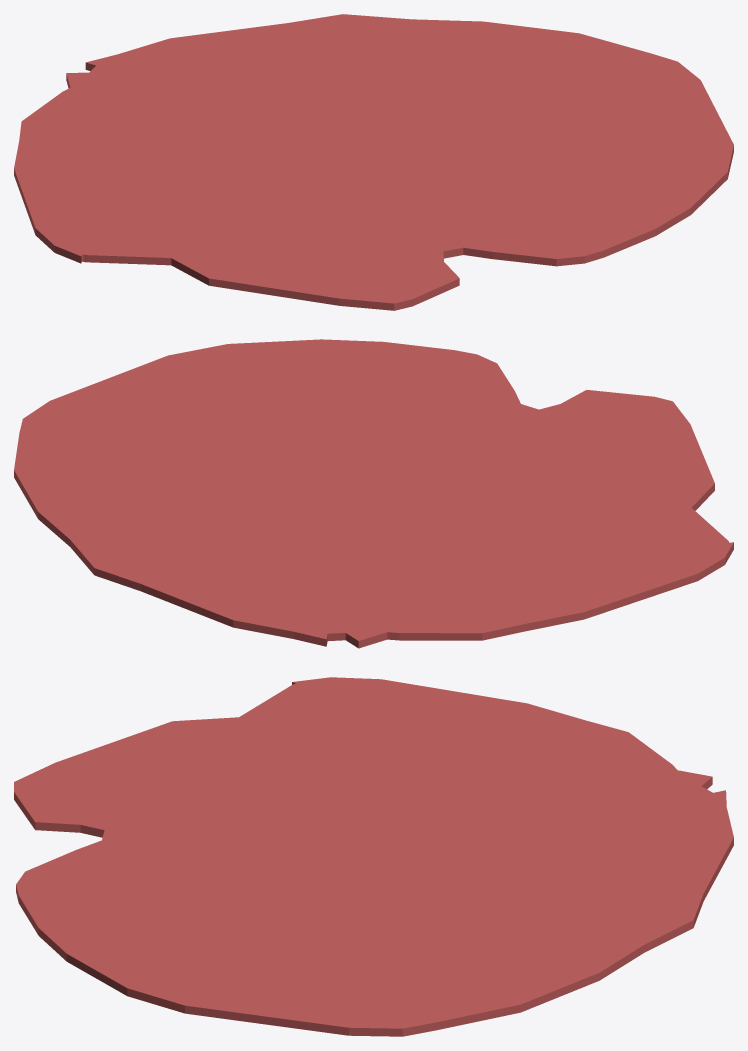
File: Coral_Disc_01.fbx
3 renders of one model, top to bottom at view 1: azimuth 30°, elevation 25°; view 2: azimuth 150°, elevation 25°; view 3: azimuth 270°, elevation 25°, orthographic. The views are drawn at different scales.
Parts seen in each view (by area): view 1: Model; view 2: Model; view 3: Model.
Part boxes in pixels (<box>): Model: <box>14,14,733,310</box>; Model: <box>14,339,733,648</box>; Model: <box>14,677,733,1036</box>.
Size of the model in its own units: 262 by 2.78 by 227.
